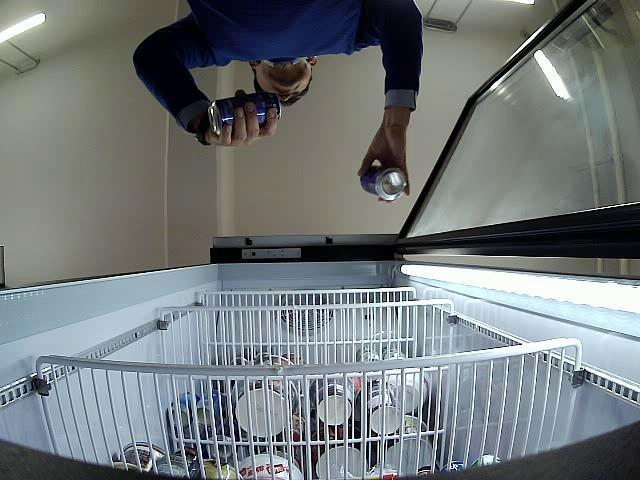14_welchsGrape: (208, 92, 282, 137), (360, 166, 407, 200)
